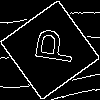P: (25, 25, 76, 66)
